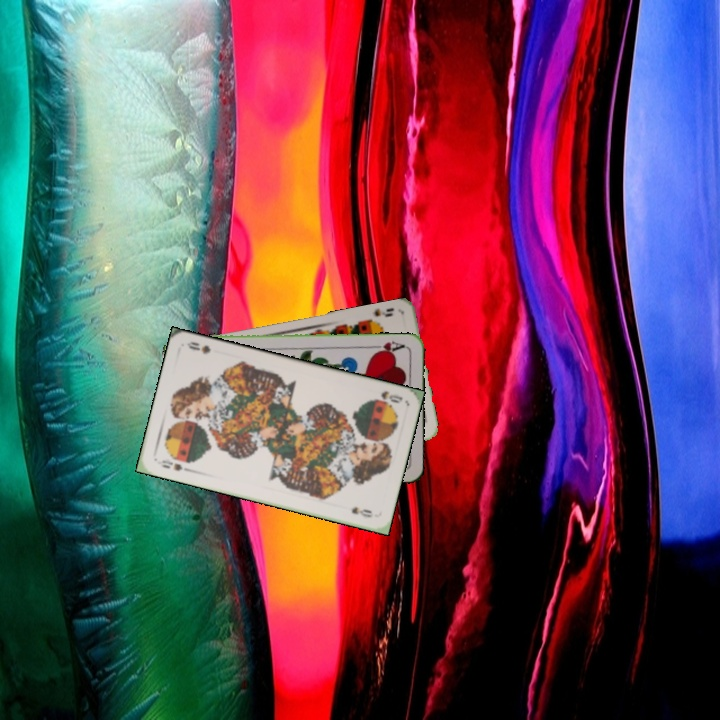HA: (368, 337, 407, 356)
S9: (361, 304, 396, 327)
SO: (153, 455, 193, 475), (371, 387, 405, 406)
